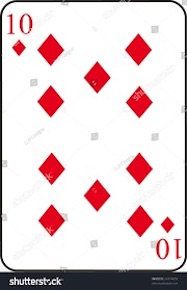TenOfDiamonds: (3, 1, 185, 268)
